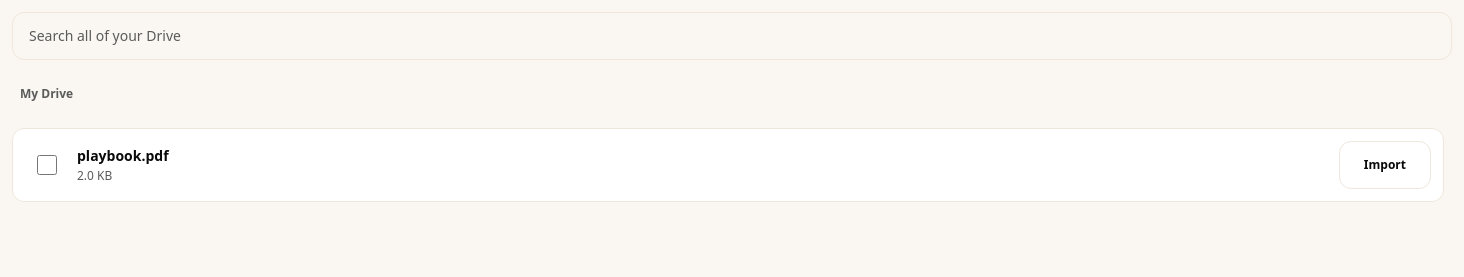
Test: GoogleDrivePicker › surfaces backend errors such as 413/415 inline
Click the button "Import" at [1385, 165], box top-left (1339, 141), bottom-right (1431, 189)
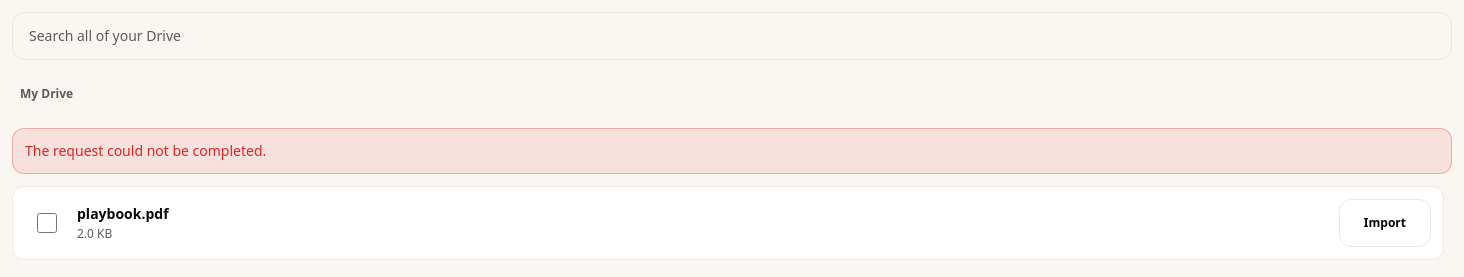
Now the text "The request could not be completed." is shown, box top-left (12, 128), bottom-right (1452, 174)
